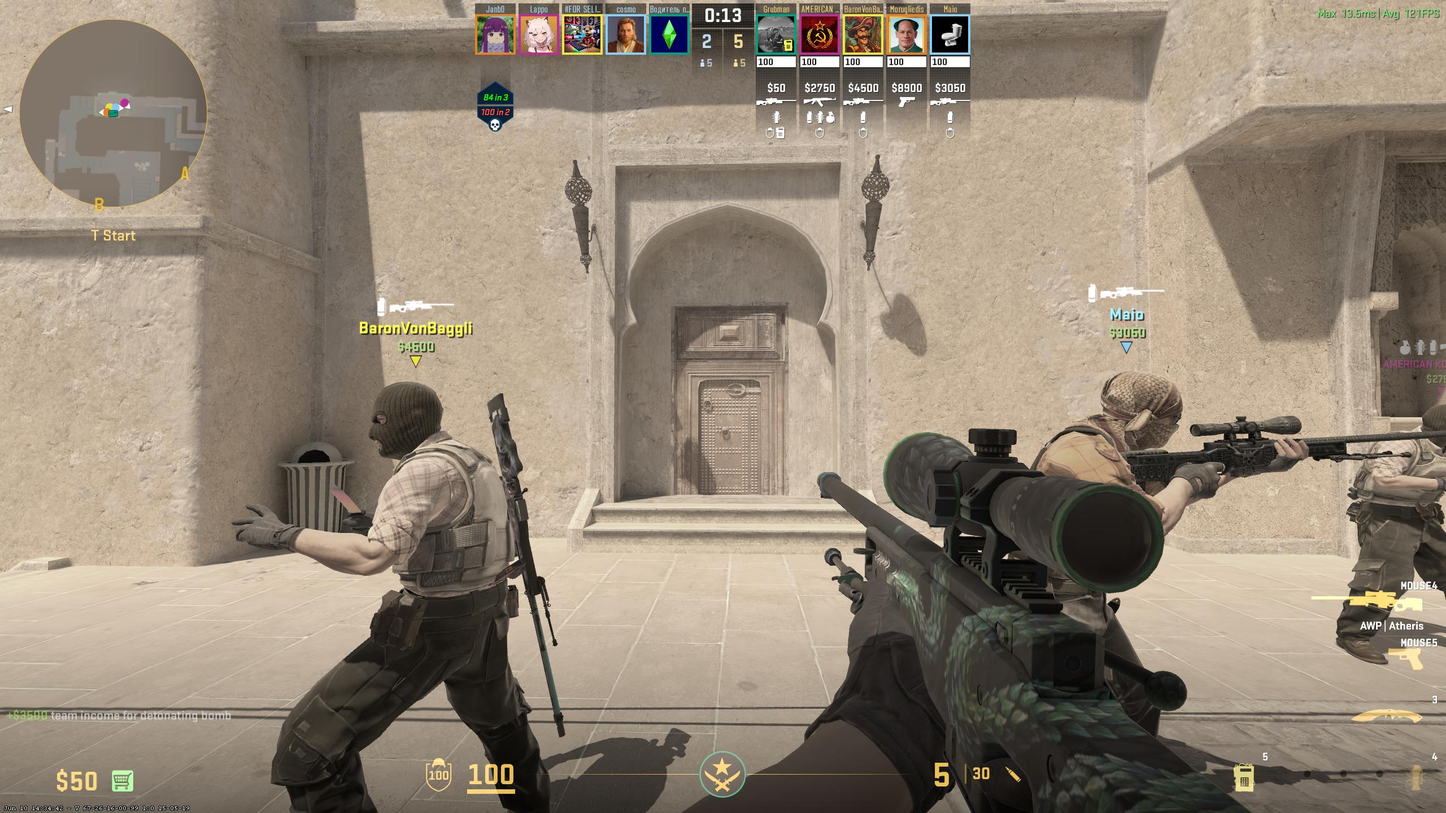Terrorist: (234, 400, 538, 813), (1035, 357, 1224, 722), (1332, 415, 1446, 655)
